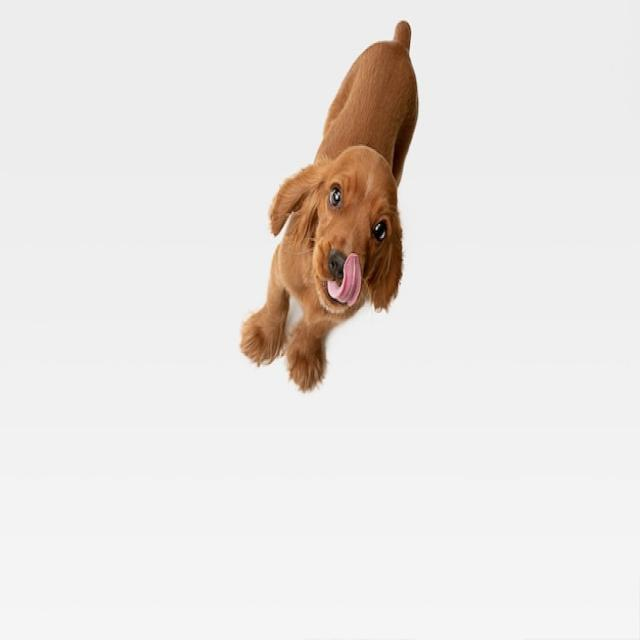Dog: (242, 21, 418, 392)
